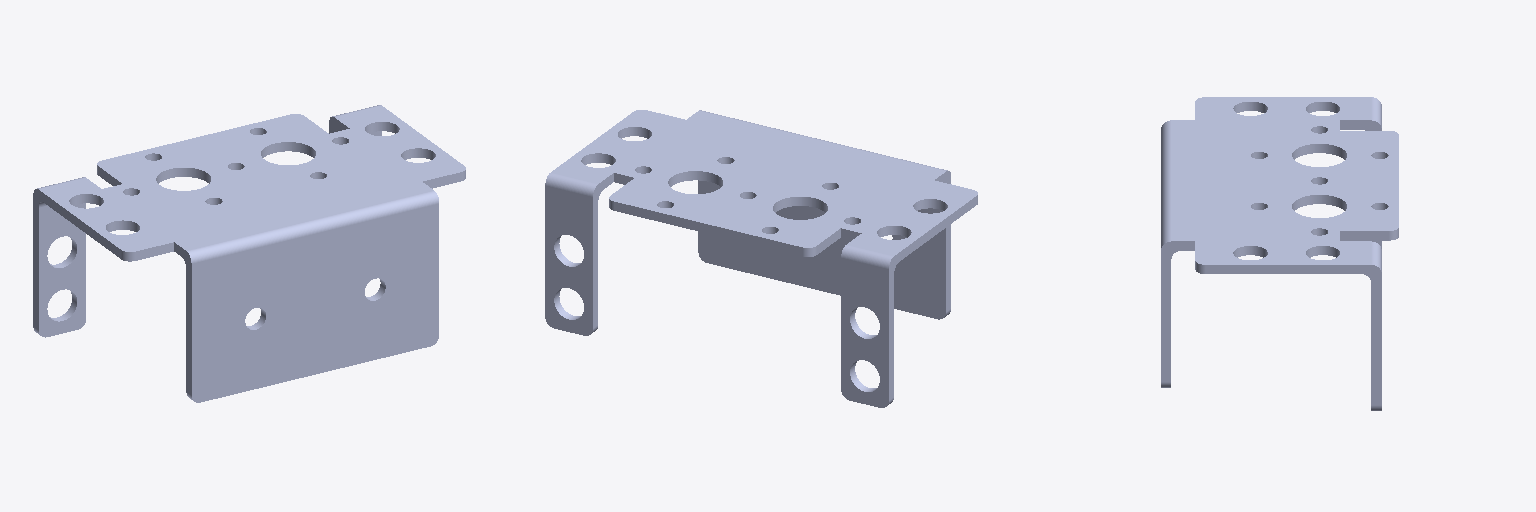
Rendered from sujetador_motor.obj.
3 renders of one model, left to right at view 1: azimuth 30°, elevation 25°; view 2: azimuth 150°, elevation 25°; view 3: azimuth 270°, elevation 25°, orthographic.
Parts seen in each view (by area): view 1: Fillet5; view 2: Fillet5; view 3: Fillet5.
Part boxes in pixels (x1,y1,x2,y2): Fillet5: (33,105,465,402); Fillet5: (545,110,977,407); Fillet5: (1161,97,1398,410).
Bounding box in the file's own units: 22.64 × 9.45 × 13.58.